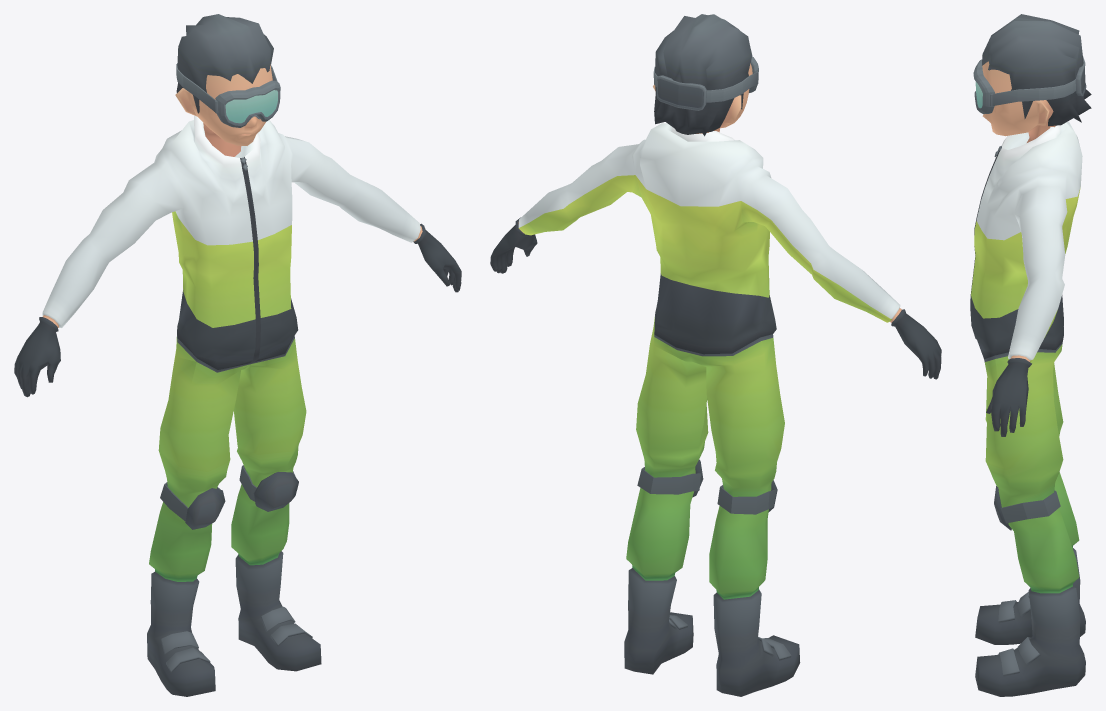
File: skier.glb
The picture shows the model from 3 angles, left to right: view 1: azimuth 30°, elevation 25°; view 2: azimuth 150°, elevation 25°; view 3: azimuth 270°, elevation 25°; orthographic projection.
Visible parts, largest first — view 1: ski man; view 2: ski man; view 3: ski man.
Part boxes in pixels (box(x1,y1,x2,y2)): ski man: box(14, 14, 461, 696); ski man: box(490, 14, 941, 696); ski man: box(970, 14, 1091, 696).
Bounding box in the file's own units: 0.7214 × 1.01 × 0.1742.
1 material, 1 textured.
